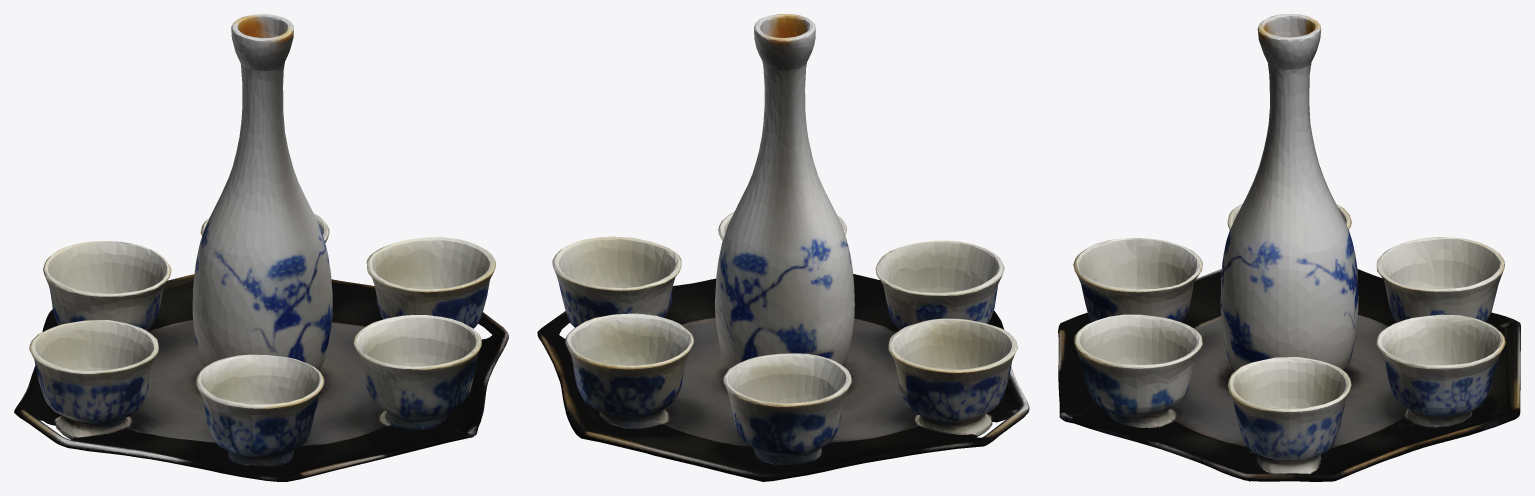
Rendered from porcelain-sake-set-vintage.jpeg.glb.
3 renders of one model, left to right at view 1: azimuth 30°, elevation 25°; view 2: azimuth 150°, elevation 25°; view 3: azimuth 270°, elevation 25°, orthographic.
Visible parts, largest first — view 1: world; view 2: world; view 3: world.
Part boxes in pixels (left/top/right/bottom): world: left=14, top=14, right=508, bottom=481; world: left=537, top=14, right=1029, bottom=481; world: left=1058, top=14, right=1520, bottom=481.
Size of the model in its own units: 0.9992 by 0.7728 by 0.8929.
Materials: 1 (1 with a texture image).
